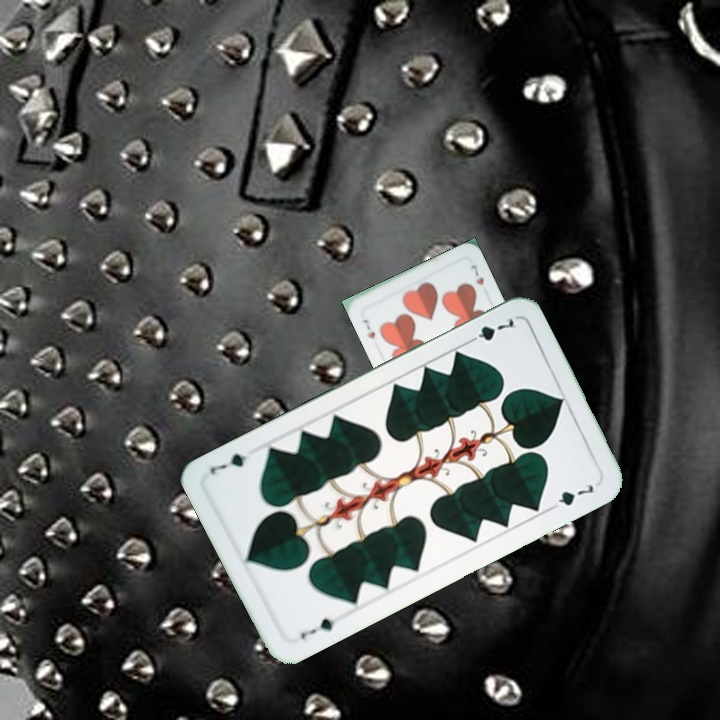G7: (462, 314, 519, 347), (296, 614, 338, 643)
H7: (359, 315, 378, 341)
